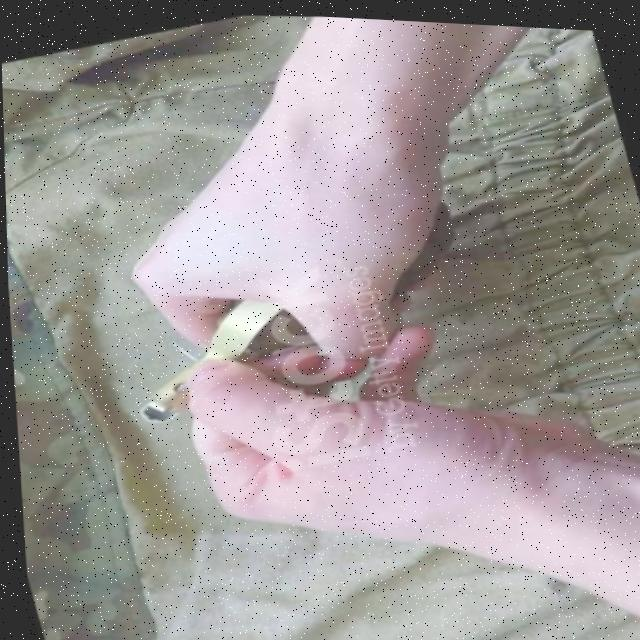grenade: (79, 174, 487, 435)
